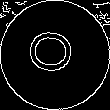O_E: (27, 30, 83, 80)
